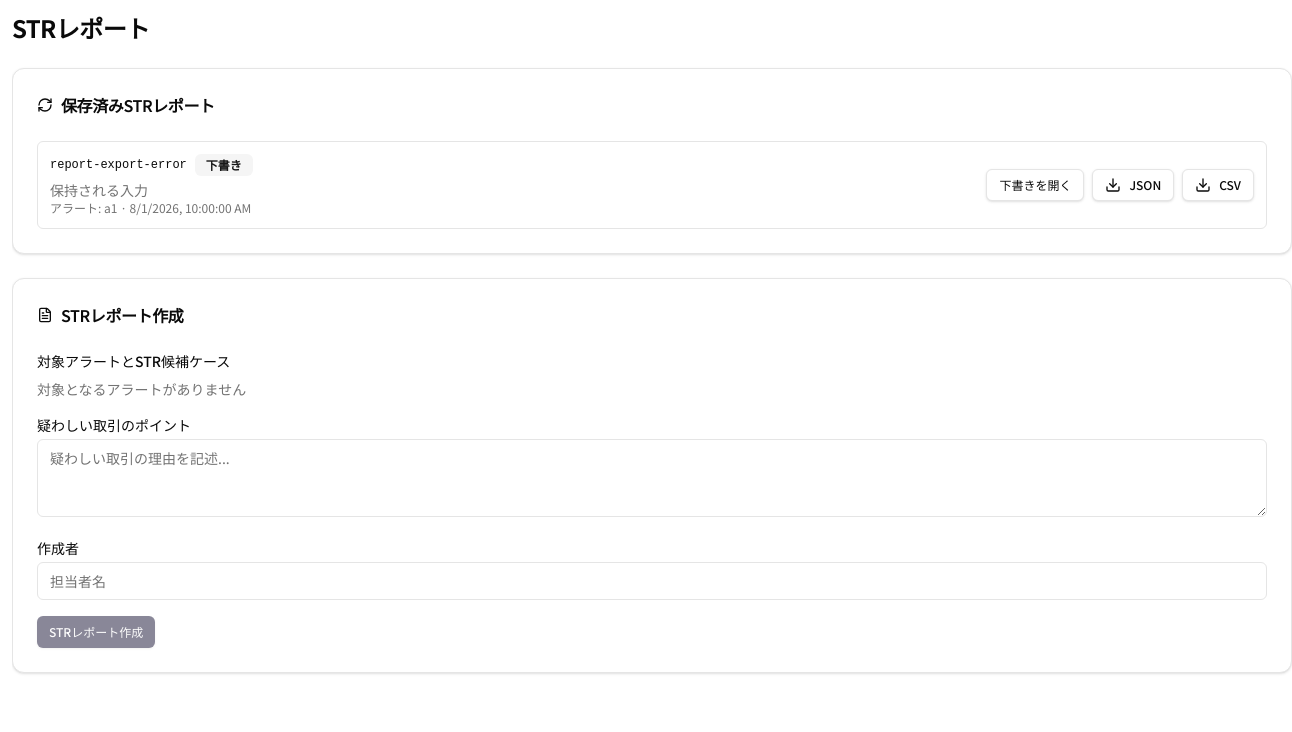
Test: keeps a selected draft and its input after an export completeness error
Click the button "下書きを開く" at coordinates (1035, 185), box x1=986 y1=169 x2=1084 y2=201
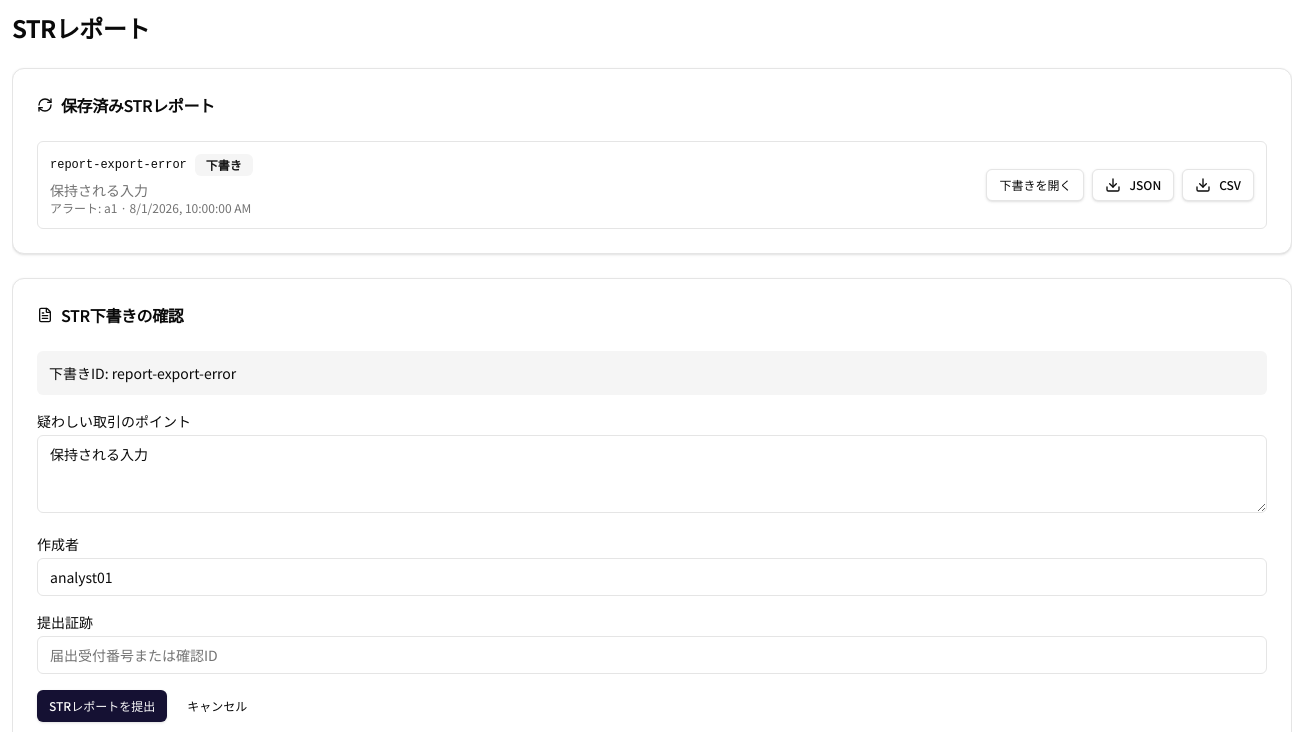
Now the text "下書きID: report-export-error" is shown, box x1=37 y1=351 x2=1267 y2=395
Click the button "JSON" at coordinates (1133, 185), box x1=1092 y1=169 x2=1174 y2=201
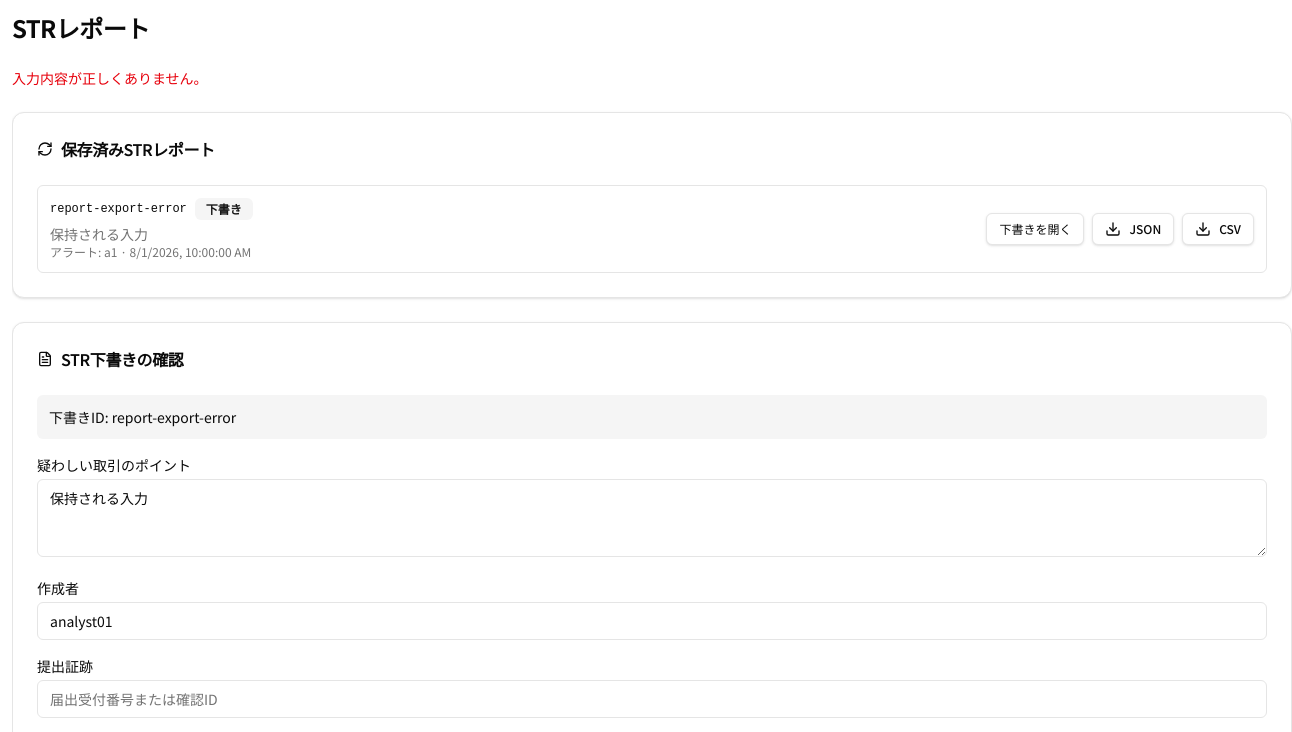
Now the text box showing "保持される入力" is shown, box x1=37 y1=479 x2=1267 y2=557
Now the text "下書きID: report-export-error" is shown, box x1=37 y1=395 x2=1267 y2=439
Now the message shows "入力内容が正しくありません", box x1=12 y1=68 x2=208 y2=88
